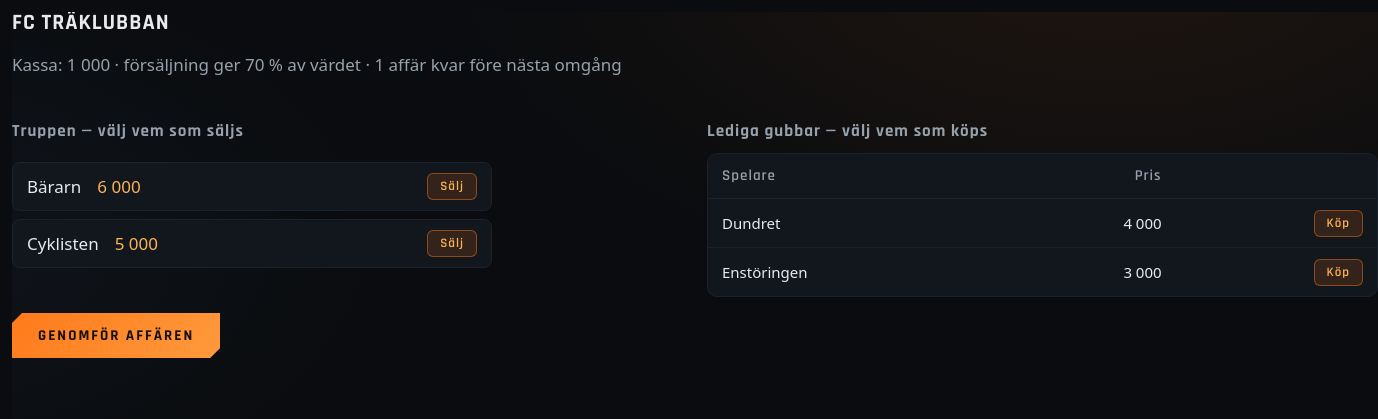
Scenario: TransferDesk › does the maths for a chosen deal
Click the button "Sälj" in the row of "Bärarn" at x=452, y=187, box x1=427 y1=173 x2=477 y2=200
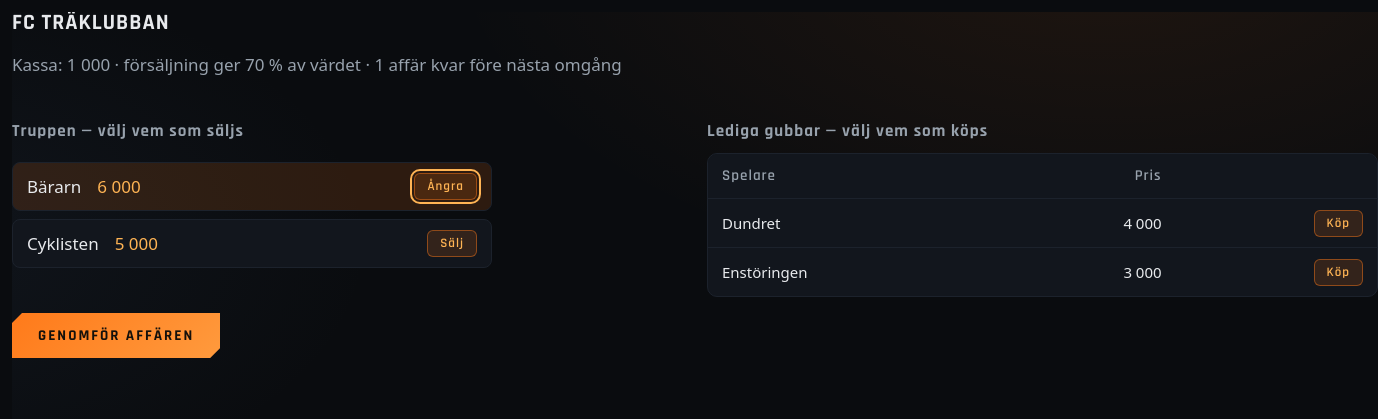
Click the button "Köp" in the row of "Dundret" at x=1338, y=224, box x1=1314 y1=210 x2=1363 y2=237
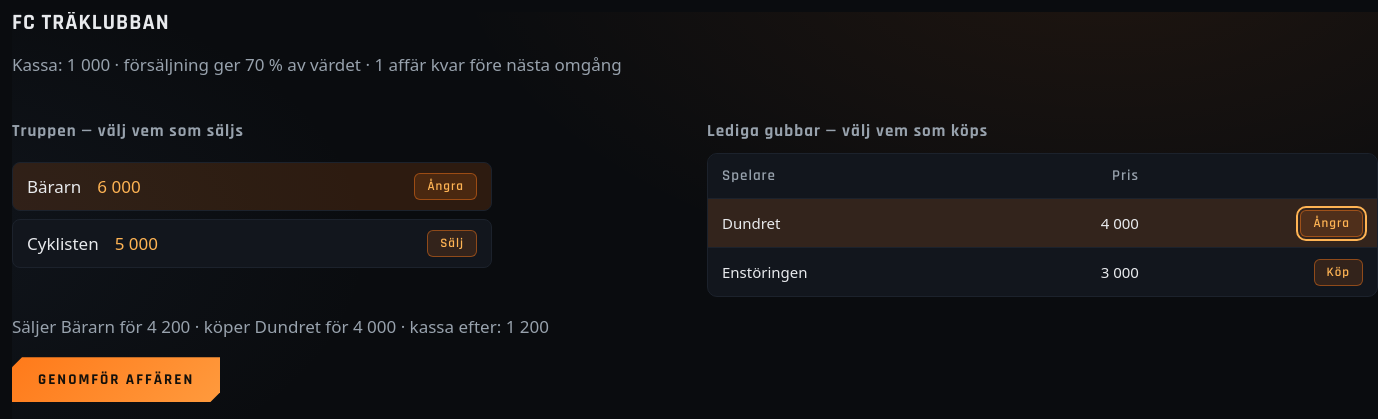
Expected: the text "kassa efter" reads "Säljer Bärarn för 4 200 · köper Dundret för 4 000 · kassa efter: 1 200", x1=12 y1=315 x2=549 y2=338
Expected: the button "Genomför affären" is enabled, x1=12 y1=357 x2=220 y2=402
